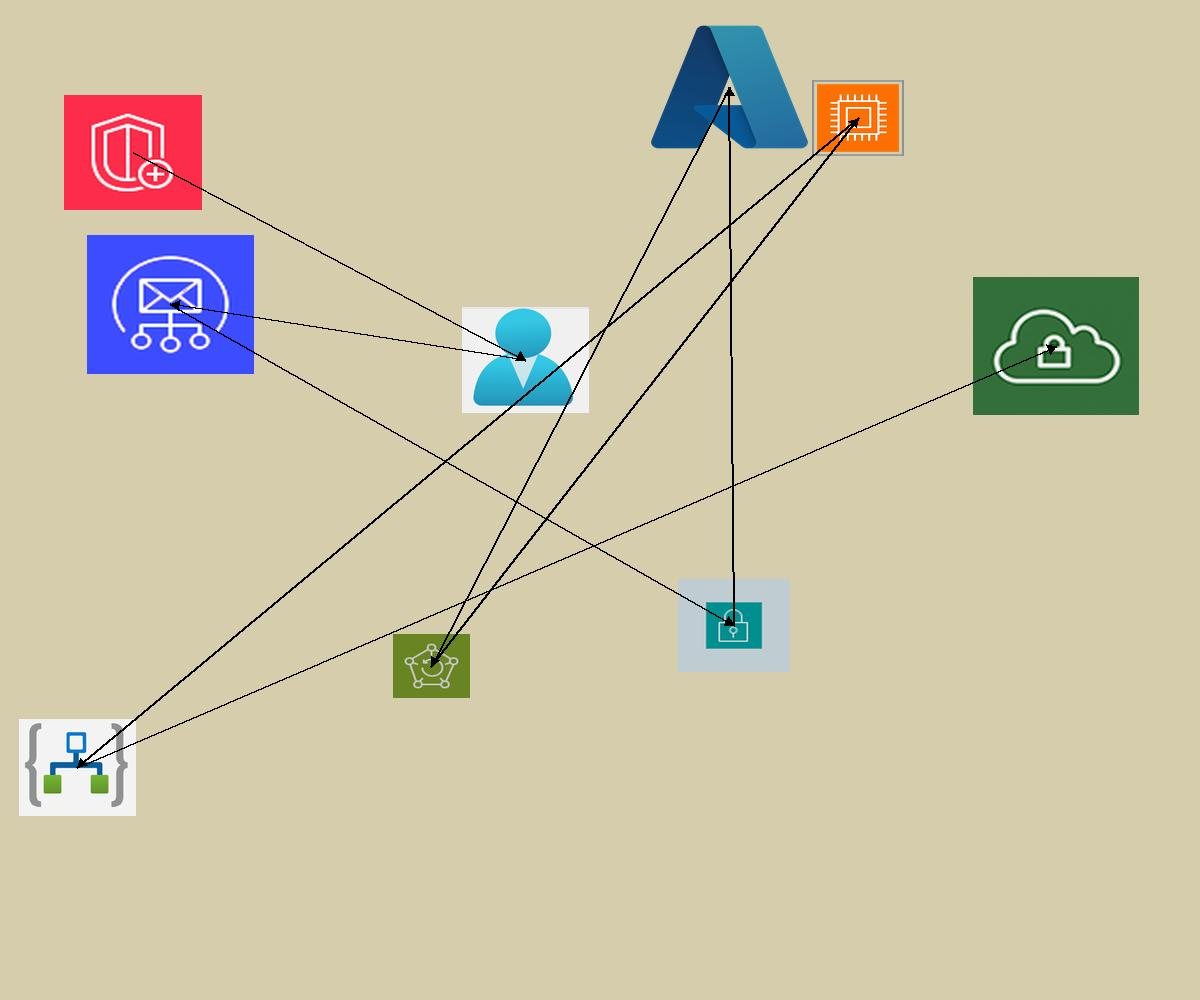AWS-Backup: (393, 634, 470, 698)
AWS-Category_Compute: (812, 80, 904, 156)
AWS-Private-subnet: (678, 579, 790, 672)
AWS-Private_vpc: (973, 277, 1139, 415)
AWS-Shield: (64, 95, 202, 210)
AWS-Simple-Email-Service: (87, 235, 254, 374)
Azure_integration-204-Logic-Apps: (19, 719, 136, 816)
Azure_services: (644, 16, 815, 158)
Azure_users: (462, 307, 589, 413)
